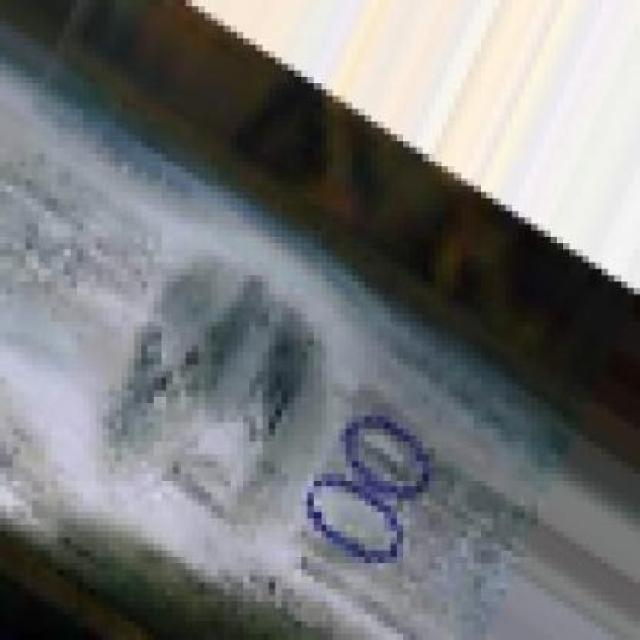defective: (11, 84, 578, 640)
